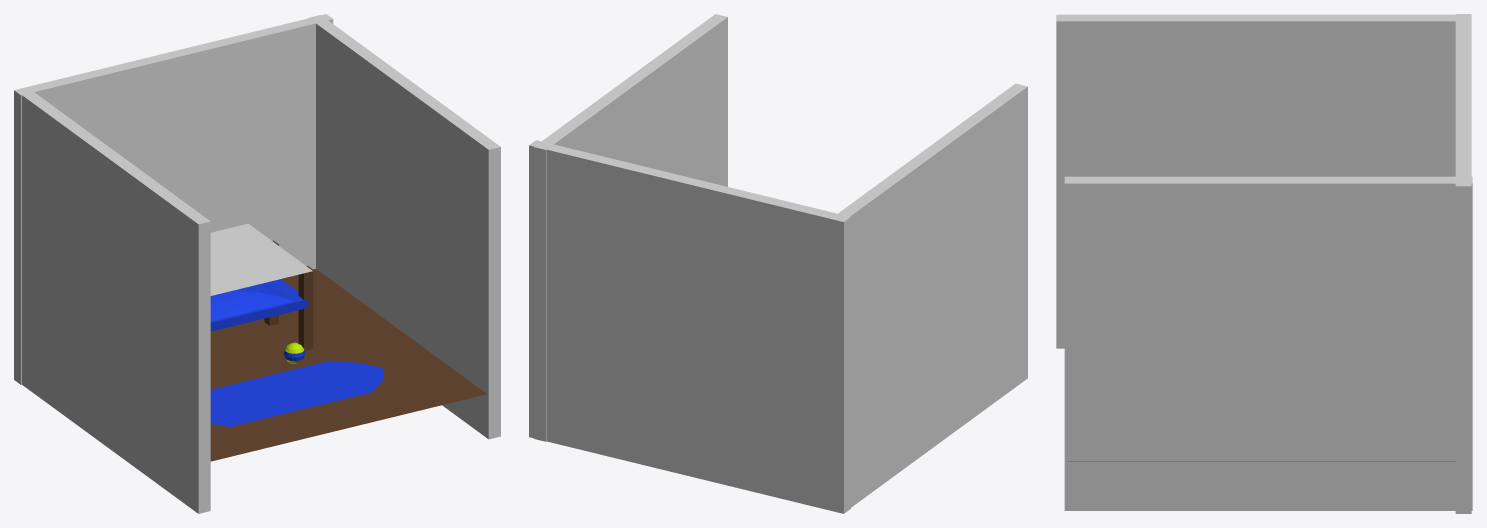
The model's file is andy.fbx.
The picture shows the model from 3 angles, left to right: view 1: azimuth 30°, elevation 25°; view 2: azimuth 150°, elevation 25°; view 3: azimuth 270°, elevation 25°; orthographic projection. The views are drawn at different scales.
Parts seen in each view (by area): view 1: Cube.002, Cube.001, Cube, Plane, Plane.001, Plane.002, Cube.004; view 2: Cube, Cube.002, Cube.001; view 3: Cube.001, Cube.002, Cube.
Boxes of the visible parts, x1,y1,x2,y2 form: Cube.002: (18,91,210,513); Cube.001: (308,15,500,439); Cube: (14,14,333,384); Plane: (210,269,486,461); Plane.001: (210,360,383,426); Plane.002: (210,223,312,295); Cube.004: (210,240,313,350); Cube: (529,140,850,513); Cube.002: (834,83,1027,507); Cube.001: (534,14,727,441); Cube.001: (1064,176,1472,510); Cube.002: (1056,14,1463,348); Cube: (1455,14,1471,513).
Size of the model in its own units: 5113 by 5042 by 5219.
